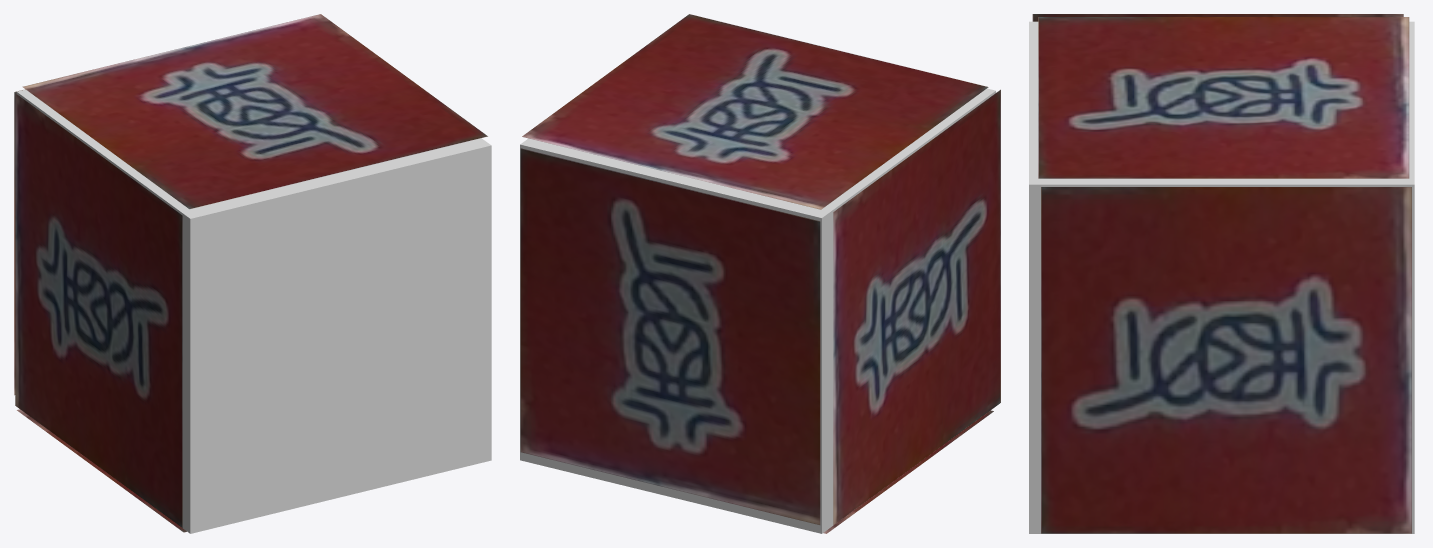
The picture shows the model from 3 angles, left to right: view 1: azimuth 30°, elevation 25°; view 2: azimuth 150°, elevation 25°; view 3: azimuth 270°, elevation 25°; orthographic projection. The views are drawn at different scales.
Parts seen in each view (by area): view 1: Link28, R1.002, R1.004, R1.005, R1.001; view 2: R1.001, R1.002, R1.004, Link28, R1.005; view 3: R1.003, R1.004, Link28, R1.002.
Boxes of the visible parts, x1,y1,x2,y2 form: Link28: (16,89,491,533); R1.002: (15,93,182,527); R1.004: (22,14,487,209); R1.005: (17,409,186,532); R1.001: (14,89,25,395); R1.001: (520,148,820,524); R1.002: (833,89,1000,524); R1.004: (522,14,988,209); Link28: (520,88,995,533); R1.005: (823,410,993,533); R1.003: (1041,187,1411,533); R1.004: (1038,17,1409,178); Link28: (1029,21,1414,533); R1.002: (1032,14,1403,21).
Size of the model in its own units: 0.3585 by 0.3539 by 0.3577.
Materials: 1 (1 with a texture image).
